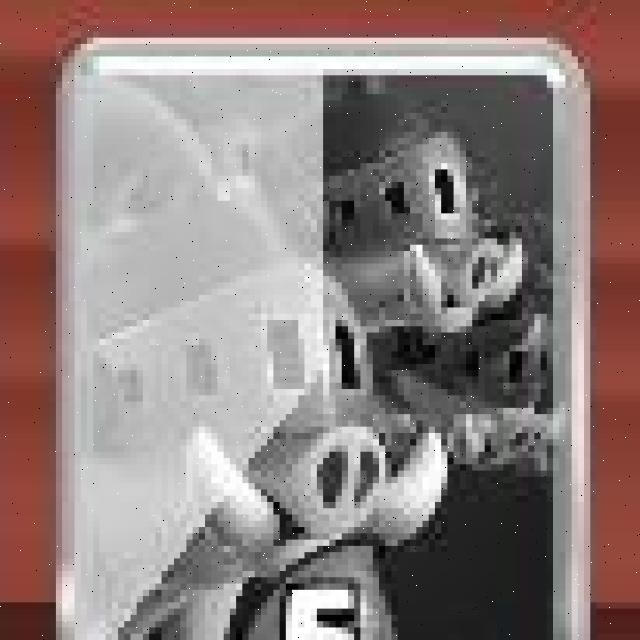Royal_Hogs: (57, 45, 592, 640)
